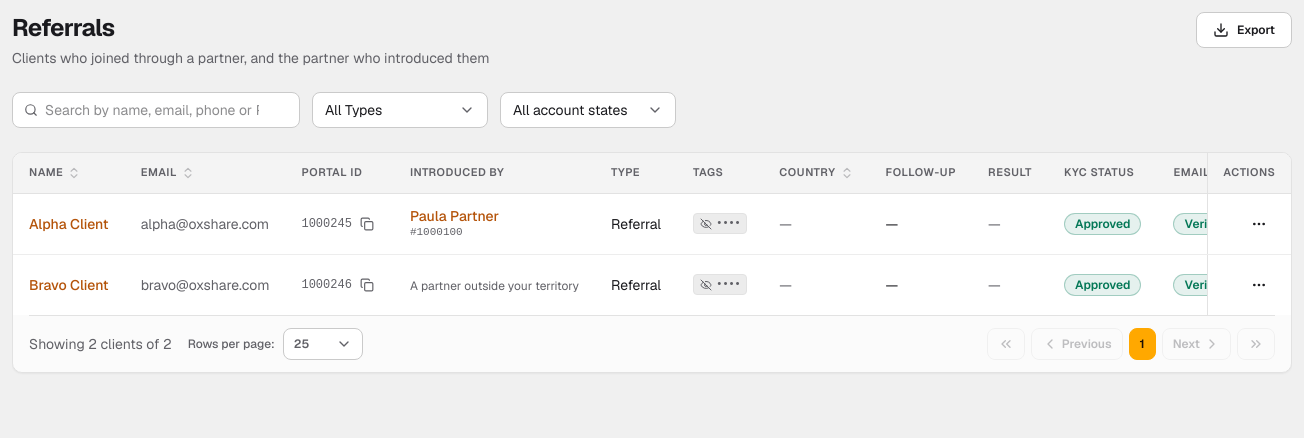
Test case: moving a referral to another partner (owner, 15 Oct 2026) › is not offered without ib.partners.edit
The width and height of the screenshot is (1304, 438).
Expected: the text "alpha@oxshare.com" is shown, x1=141 y1=214 x2=269 y2=234
Click the button named "Actions for Alpha Client".
click(1259, 224)  # box x1=1243 y1=208 x2=1275 y2=240
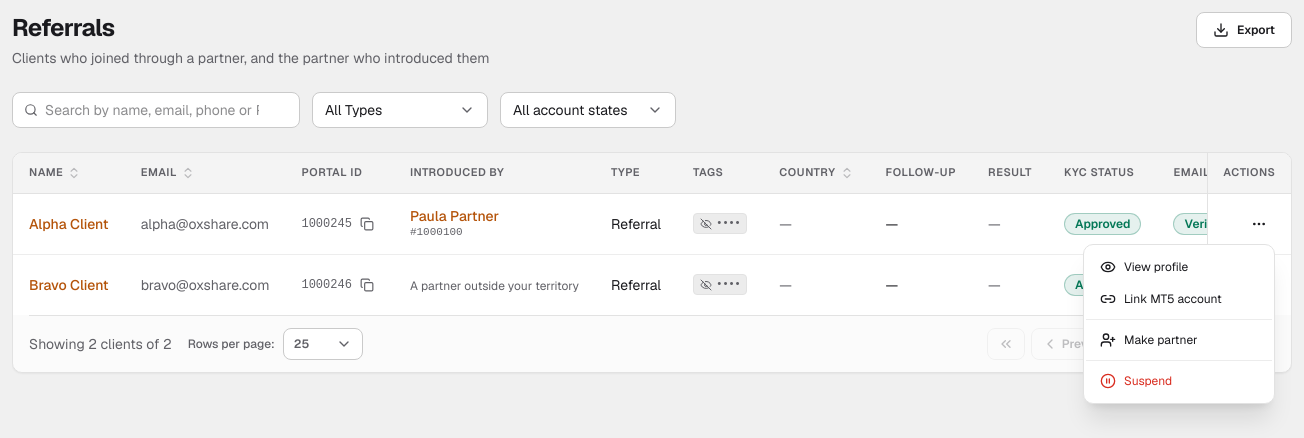
Result: the menu item "View profile" is shown at x1=1100 y1=259 x2=1188 y2=275
